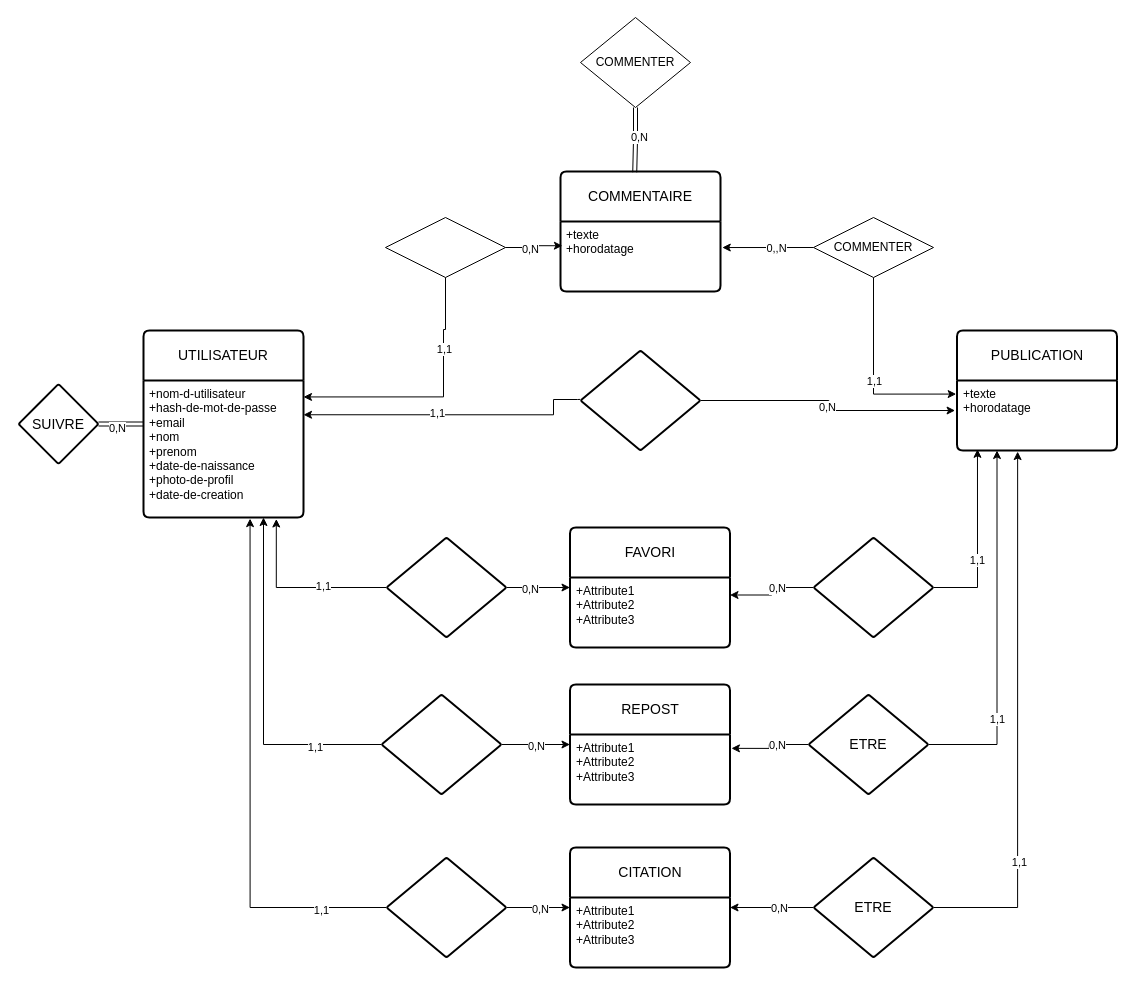
Image size: 1135x986. Some labels were removed from this diagram. Here are the shapes that lost their labels. From the top down, the centre of each, then its label:
the point at 445,247: EMETTRE
the point at 640,400: ECRIRE
the point at 446,587: METTRE
the point at 873,587: ETRE AJOUTER
the point at 441,744: EFFECTUER
the point at 446,907: POSTER
